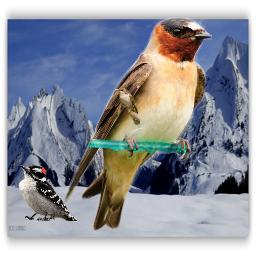Cuckoo: (114, 87, 140, 125)
Swallow: (62, 17, 212, 231)
Woodpecker: (18, 165, 77, 222)
